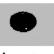correct: (5, 8, 47, 41)
